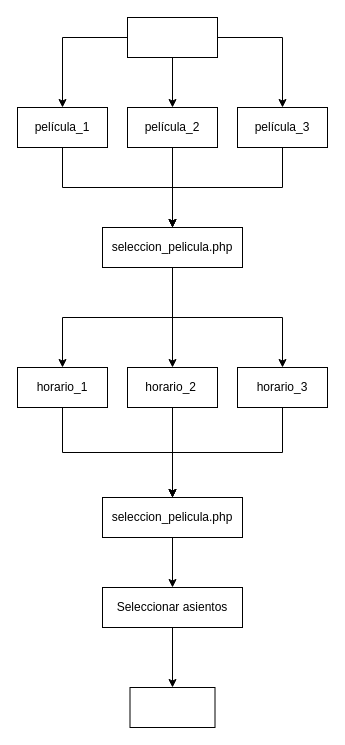
Image size: 345x745. Some labels were removed from this diagram. The shapes that lost their labels are listed below. From the top down, each one's box as (x1, y1, x2, y2) in pixels, then its label:
(126, 16, 218, 58): index.php
(129, 686, 215, 728): pago.php
